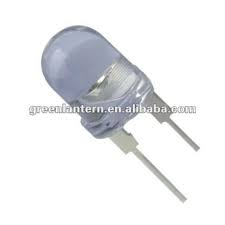LED: (39, 22, 180, 161)
